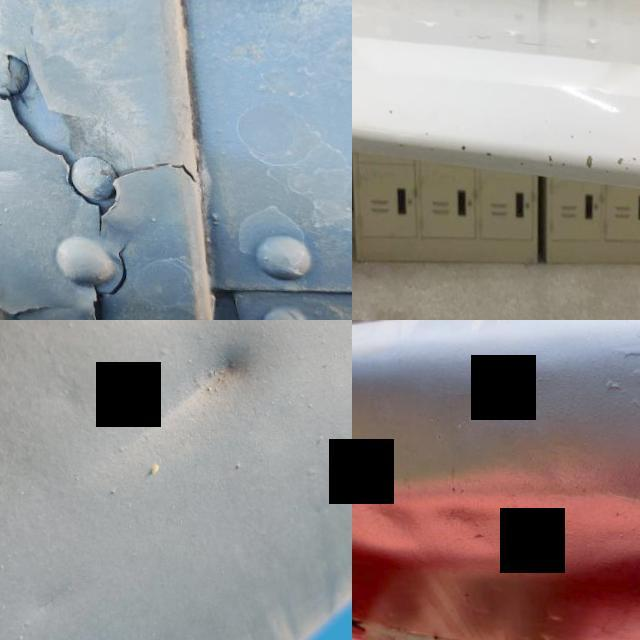Crack: (0, 32, 214, 320), (352, 95, 640, 193), (0, 277, 74, 320)
Dent: (352, 435, 528, 582), (119, 320, 276, 449)
